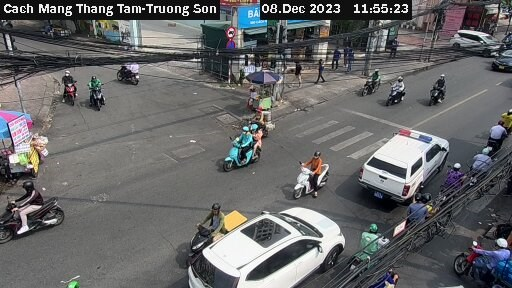car: (185, 209, 351, 288), (359, 122, 449, 217), (450, 25, 501, 58), (492, 44, 512, 73)
motorbike: (1, 181, 71, 247), (462, 226, 512, 287), (223, 120, 271, 175), (399, 184, 439, 247), (287, 143, 332, 198), (179, 204, 229, 251), (469, 135, 502, 201), (440, 153, 475, 215), (42, 66, 81, 113), (348, 219, 383, 267), (76, 76, 114, 112), (107, 56, 145, 86), (423, 69, 454, 105), (381, 73, 408, 109), (361, 66, 385, 102)
